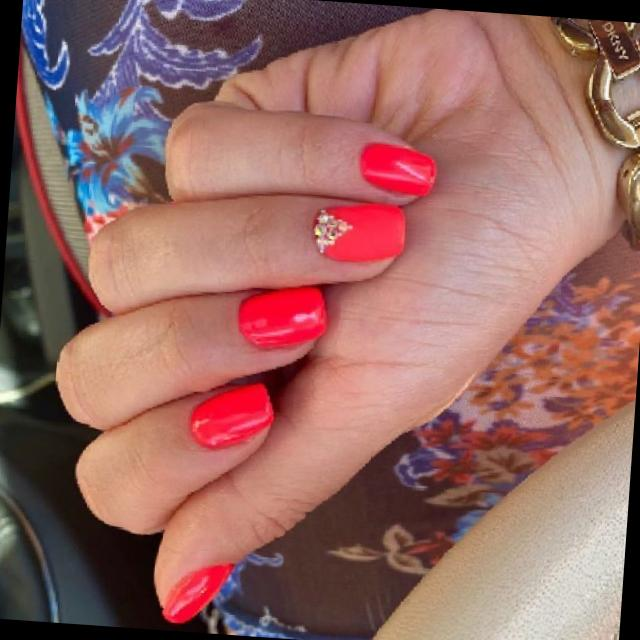Nail: (189, 382, 273, 448), (311, 203, 405, 261), (237, 286, 326, 347), (162, 562, 233, 622), (358, 143, 435, 195)
